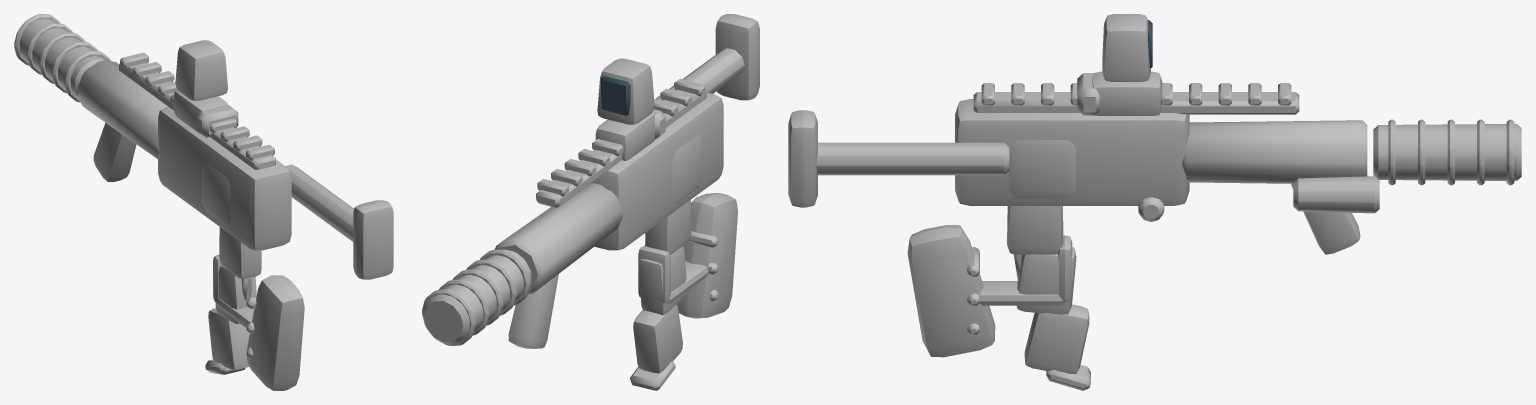
File: wpn_smg.glb
3 renders of one model, left to right at view 1: azimuth 30°, elevation 25°; view 2: azimuth 150°, elevation 25°; view 3: azimuth 270°, elevation 25°, orthographic. The views are drawn at different scales.
Parts seen in each view (by area): view 1: smg; view 2: smg; view 3: smg.
Part boxes in pixels (bbox=[...]): smg: bbox=[14, 14, 393, 390]; smg: bbox=[422, 14, 759, 390]; smg: bbox=[788, 14, 1521, 390].
Size of the model in its own units: 0.0835 by 0.3261 by 0.594.
